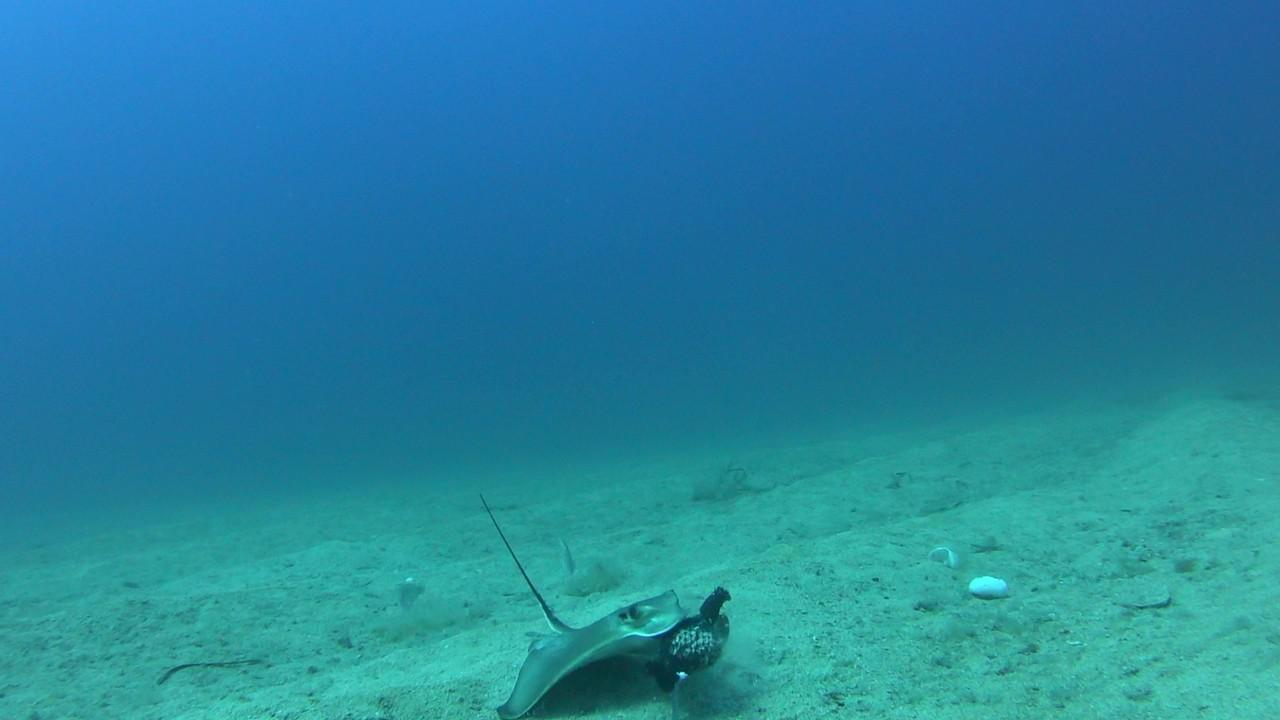myliobatis: (459, 452, 739, 719)
